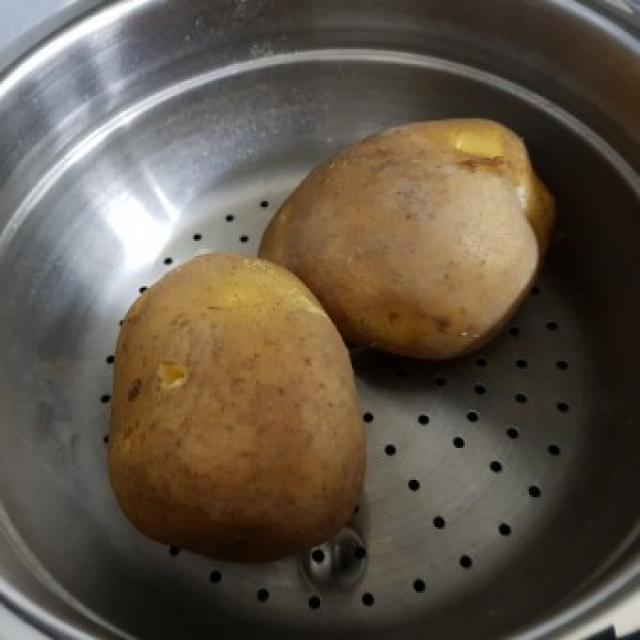potato: (104, 248, 370, 562), (250, 116, 560, 367)
